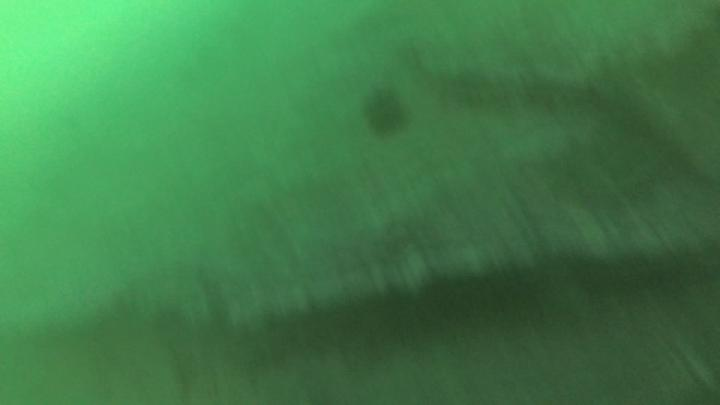echinus: (361, 84, 408, 142)
